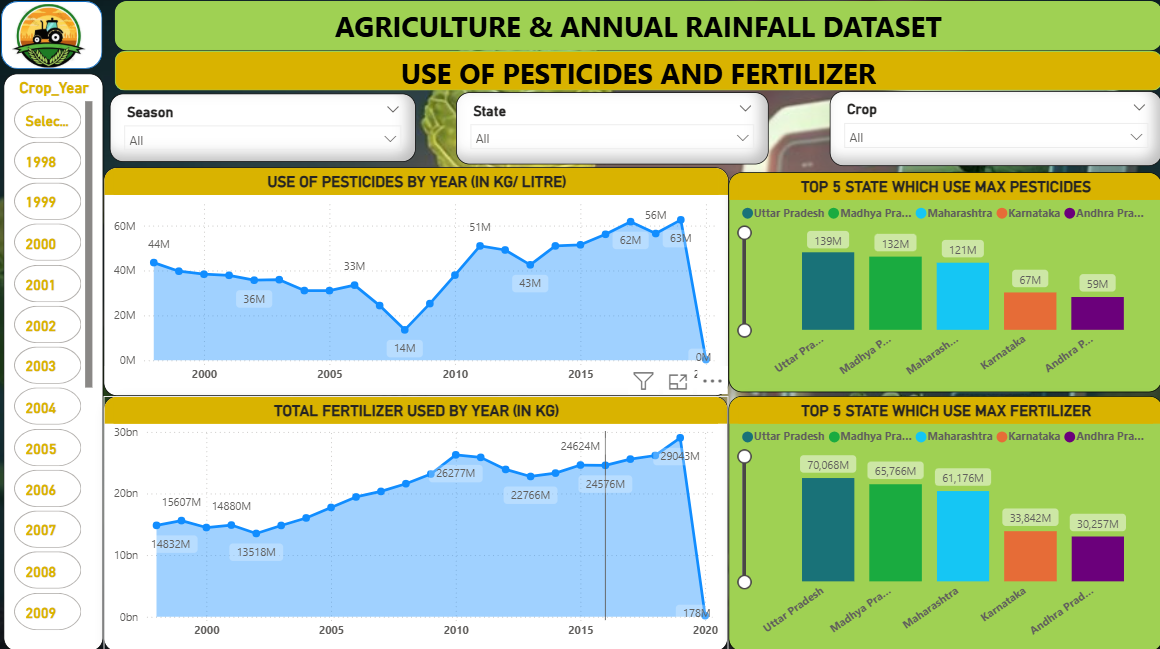

This screenshot's page, from the dashboard's own definition file:
{"tool":"powerbi","page":{"name":"Page 3","canvas":[1280,720],"ordinal":2},"visuals":[{"type":"areaChart","title":"USE OF PESTICIDES BY YEAR (IN KG/ LITRE)","fields":{"Category":["crop_yield.Crop_Year"],"Y":["Sum(crop_yield.Pesticide)"]},"box":[118,188,686.1,251.1],"z":0},{"type":"columnChart","title":"TOP 5 STATE WHICH USE MAX PESTICIDES","fields":{"Category":["crop_yield.State"],"Y":["Sum(crop_yield.Pesticide)"],"Series":["crop_yield.State"]},"box":[804.1,193.5,476.2,241.5],"z":1},{"type":"advancedSlicerVisual","fields":{"Values":["crop_yield.Crop_Year"]},"box":[8.4,85.4,109.8,634.6],"z":2},{"type":"shape","box":[130.3,4.8,1149.7,54.3],"z":3},{"type":"shape","box":[4.9,4.9,111.3,74.6],"z":4},{"type":"image","box":[4.9,3.7,105.2,79.5],"z":5},{"type":"areaChart","title":"TOTAL FERTILIZER USED BY YEAR (IN KG) ","fields":{"Y":["Sum(crop_yield.Fertilizer)"],"Category":["crop_yield.Crop_Year"]},"box":[118.2,439.1,685.3,281.1],"z":6},{"type":"columnChart","title":"TOP 5 STATE  WHICH USE MAX FERTILIZER","fields":{"Category":["crop_yield.State"],"Y":["Sum(crop_yield.Fertilizer)"],"Series":["crop_yield.State"]},"box":[803.5,439.1,476.5,281.1],"z":7},{"type":"shape","box":[130.3,60.3,1149.7,43.4],"z":8},{"type":"slicer","fields":{"Values":["crop_yield.Season"]},"box":[124.9,107,336.2,75.5],"z":9},{"type":"slicer","fields":{"Values":["crop_yield.State"]},"box":[505,105.7,343.1,79.6],"z":10},{"type":"slicer","fields":{"Values":["crop_yield.Crop"]},"box":[915.3,104.3,365,82.3],"z":11}]}

Visuals, with their boxes in screenshot pixels (x1, y1, x2, y2), scaled from the page's 1280x720 canvas onto the 1160x649 screenshot:
"USE OF PESTICIDES BY YEAR (IN KG/ LITRE)" areaChart: left=107, top=169, right=729, bottom=396
"TOP 5 STATE WHICH USE MAX PESTICIDES" columnChart: left=729, top=174, right=1159, bottom=392
advancedSlicerVisual - crop_yield.Crop_Year: left=8, top=77, right=107, bottom=648
shape: left=118, top=4, right=1159, bottom=53
shape: left=4, top=4, right=105, bottom=72
image: left=4, top=3, right=100, bottom=75
"TOTAL FERTILIZER USED BY YEAR (IN KG) " areaChart: left=107, top=396, right=728, bottom=648
"TOP 5 STATE  WHICH USE MAX FERTILIZER" columnChart: left=728, top=396, right=1159, bottom=648
shape: left=118, top=54, right=1159, bottom=93
slicer - crop_yield.Season: left=113, top=96, right=418, bottom=165
slicer - crop_yield.State: left=458, top=95, right=769, bottom=167
slicer - crop_yield.Crop: left=829, top=94, right=1159, bottom=168
